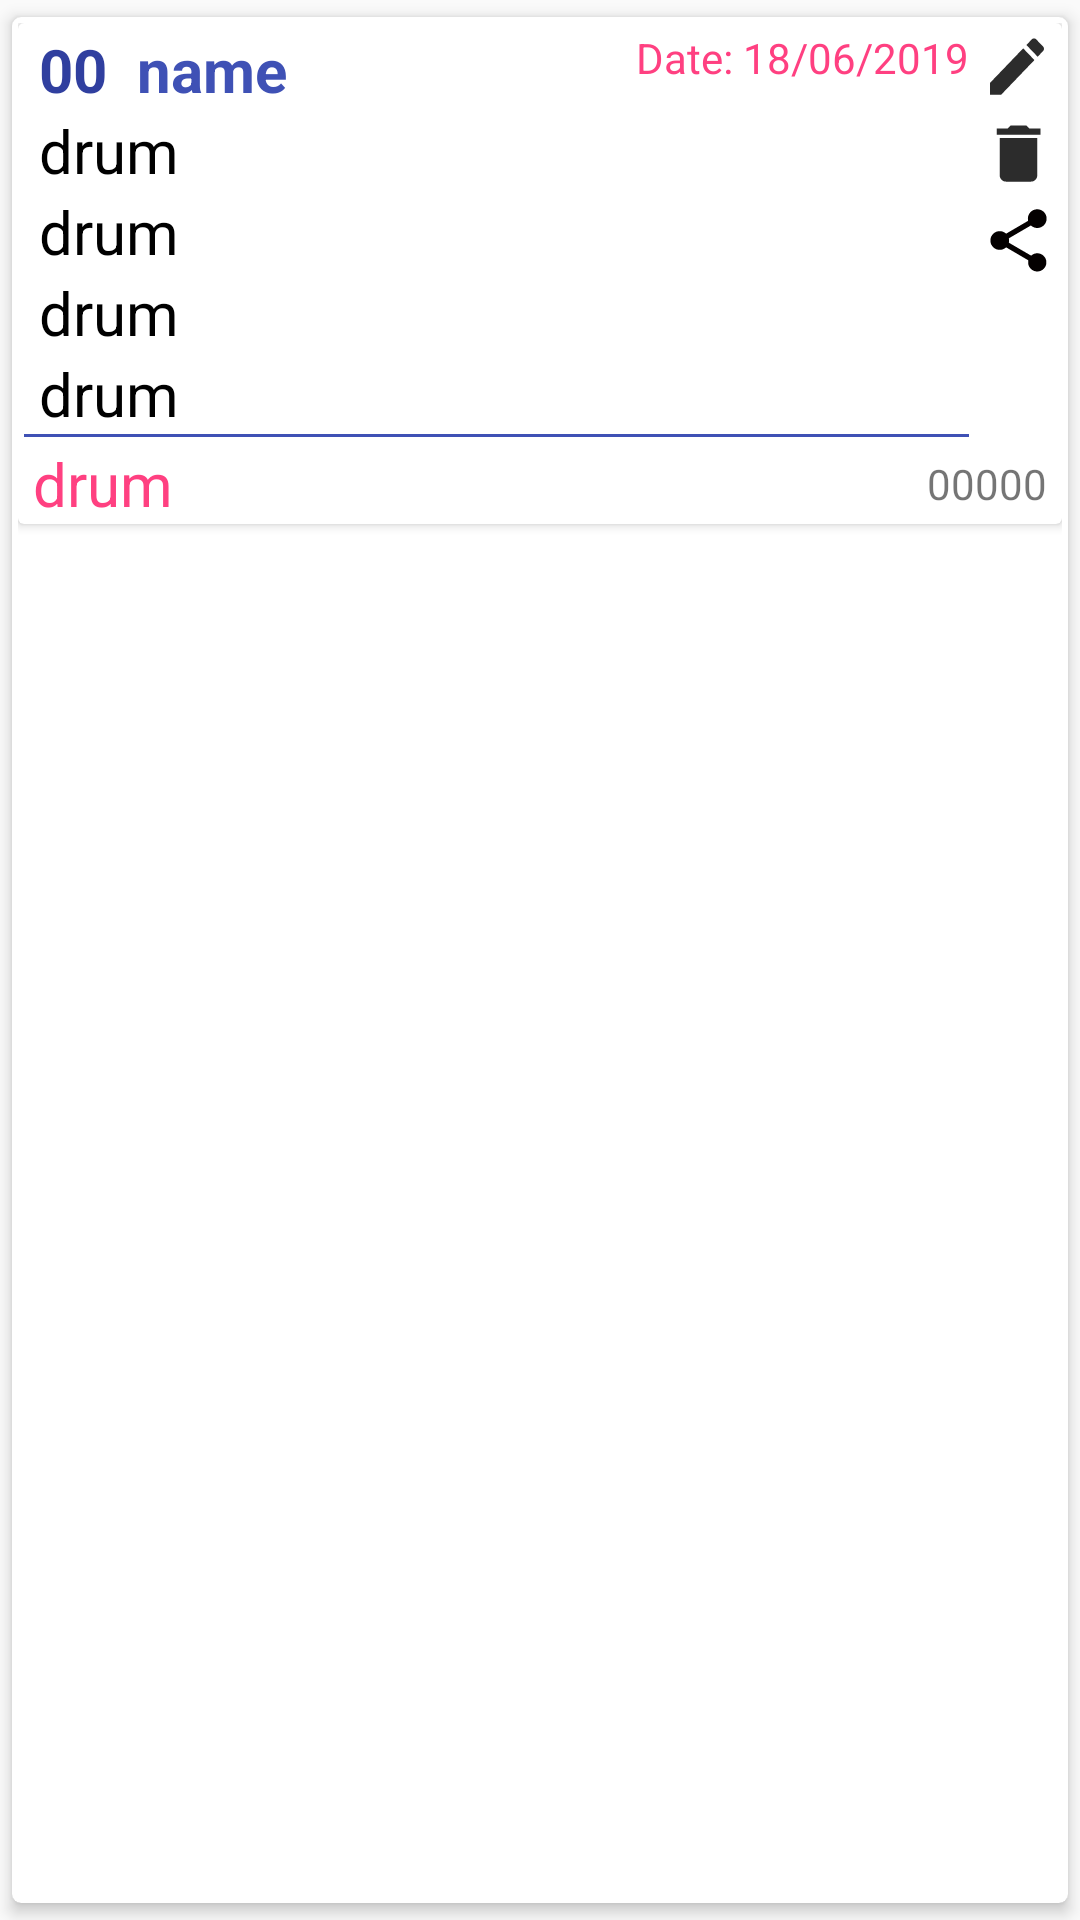

Screen size 1080 x 1920. Icon name, then its center in pixels as [x,y]:
delete: [1018,153]
edit: [1017,66]
share: [1018,240]
